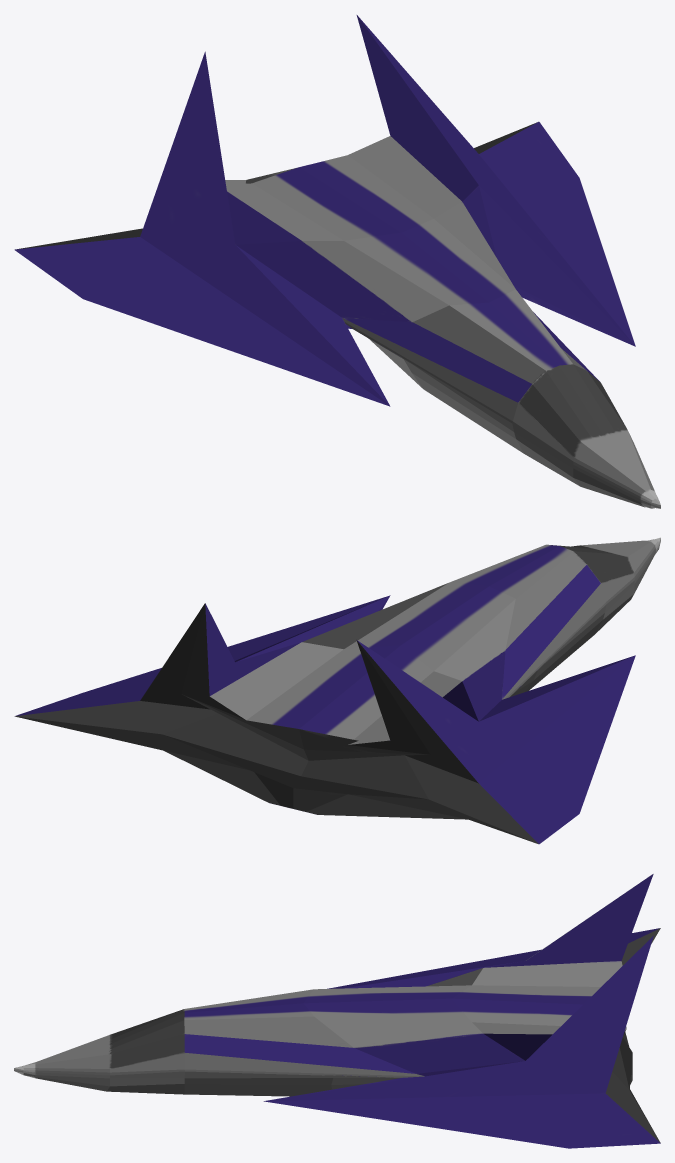
Rendered from fighter.obj.
3 renders of one model, top to bottom at view 1: azimuth 30°, elevation 25°; view 2: azimuth 150°, elevation 25°; view 3: azimuth 270°, elevation 25°, orthographic. The views are drawn at different scales.
Visible parts, largest first — view 1: Cube; view 2: Cube; view 3: Cube.
Part boxes in pixels (x1,y1,x2,y2): Cube: (14, 15, 660, 508); Cube: (14, 537, 660, 844); Cube: (14, 874, 660, 1148).
Bounding box in the file's own units: 10.09 × 3.86 × 12.79.
Materials: 1 (1 with a texture image).
